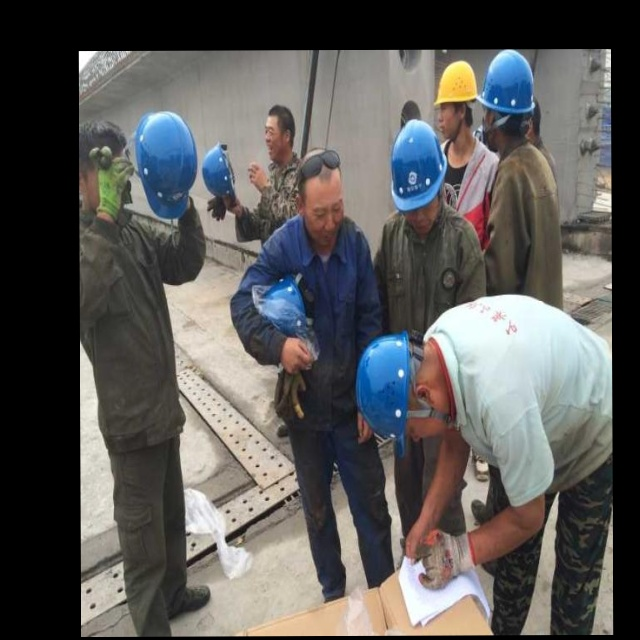Con_Casco: (389, 120, 448, 229)
Sin_Casco_Mascarrilla: (295, 145, 346, 242)
